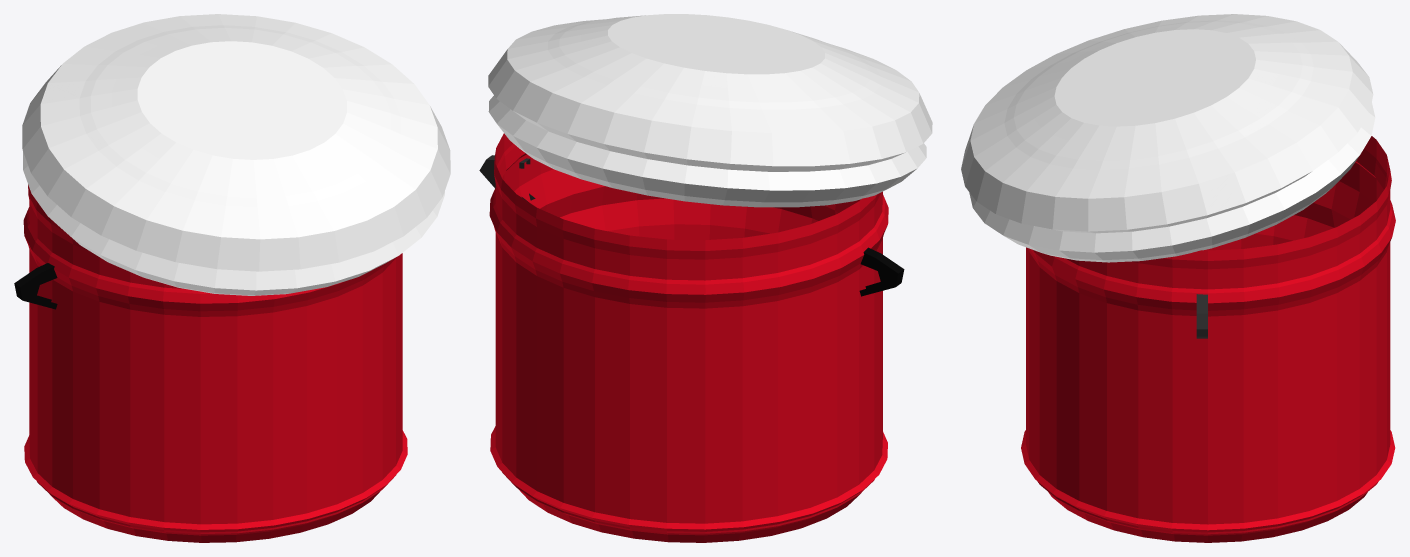
Rendered from bin1.fbx.
The picture shows the model from 3 angles, left to right: view 1: azimuth 30°, elevation 25°; view 2: azimuth 150°, elevation 25°; view 3: azimuth 270°, elevation 25°; orthographic projection. The views are drawn at different scales.
Parts seen in each view (by area): view 1: Circle.003, Circle, Circle.002; view 2: Circle, Circle.003, Circle.002; view 3: Circle, Circle.003, Circle.001.
Boxes of the visible parts, box(x1,y1,x2,y2) form: Circle.003: box(22, 14, 450, 295); Circle: box(23, 184, 407, 542); Circle.002: box(14, 263, 57, 309); Circle: box(489, 133, 888, 542); Circle.003: box(488, 14, 932, 207); Circle.002: box(859, 247, 904, 296); Circle: box(1021, 136, 1395, 542); Circle.003: box(961, 14, 1375, 262); Circle.001: box(1196, 294, 1207, 338).
Bounding box in the file's own units: 471 × 461 × 438.
